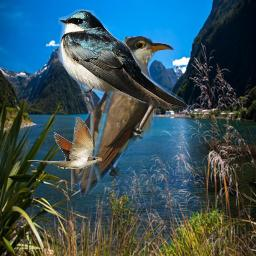Cuckoo: (71, 36, 199, 197), (27, 117, 102, 169)
Swallow: (58, 9, 189, 111)
